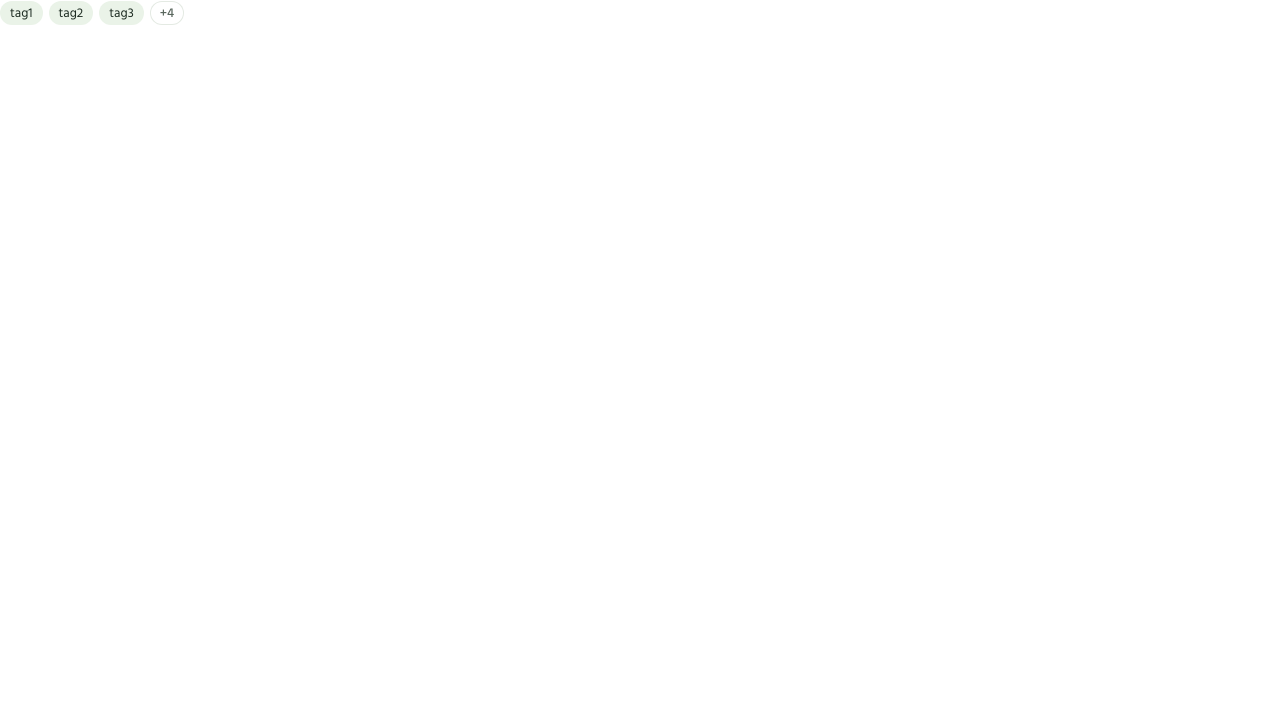
Test: +N opens every tag in a popover, and Escape closes it
Expected: the number of links is 3, [0,1,42,25]; [48,1,93,25]; [99,1,144,25]
Click the button named "Show 4 more tags" at (167, 13), box [150,1,184,25]
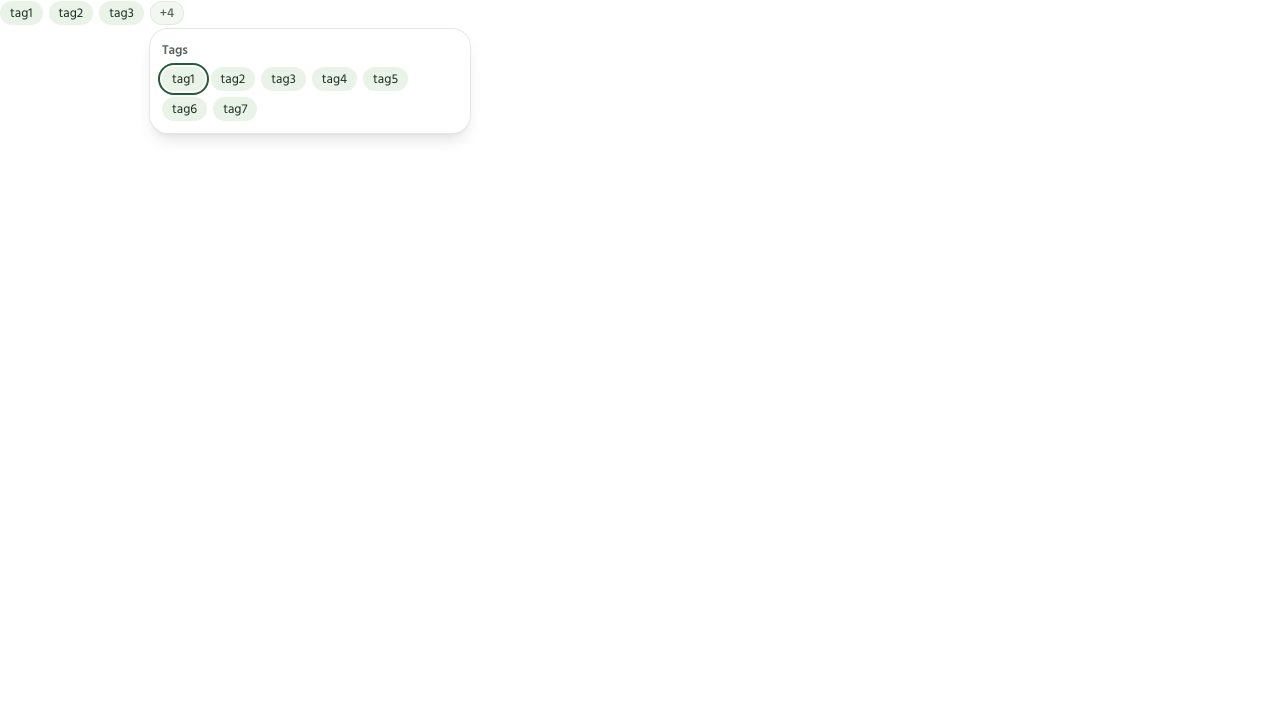
Press Escape
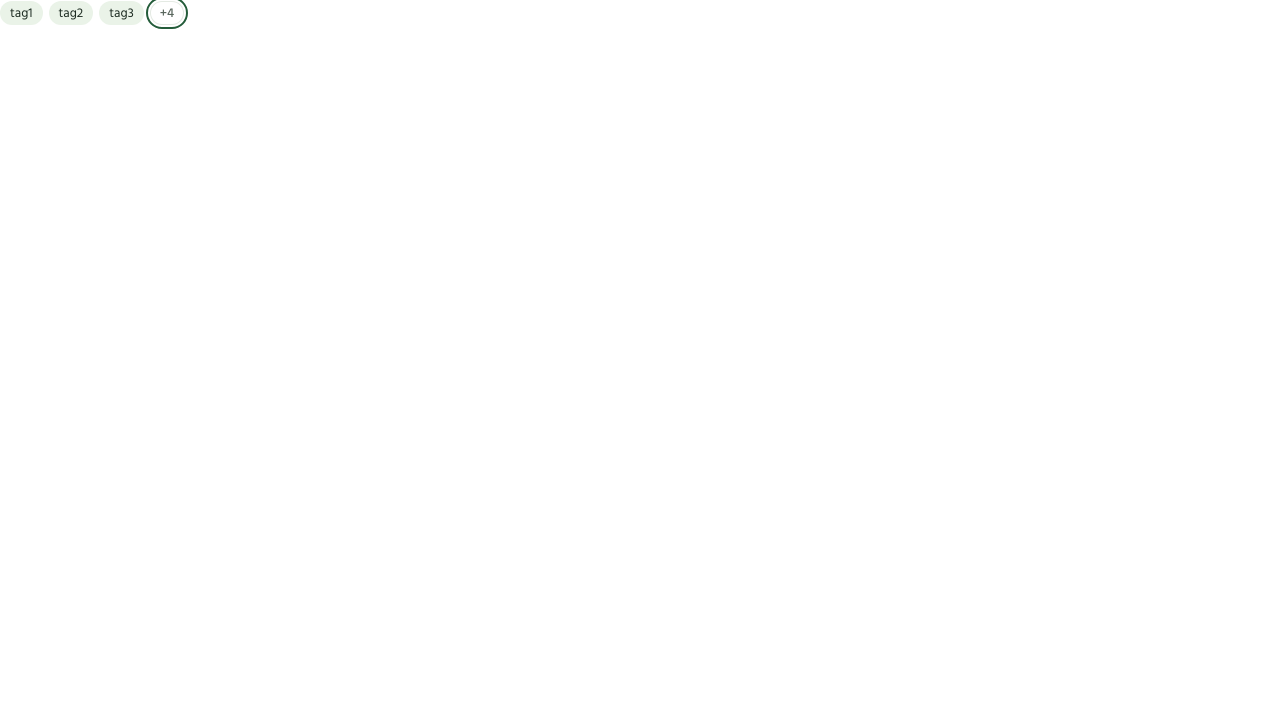
Expected: the dialog is gone
